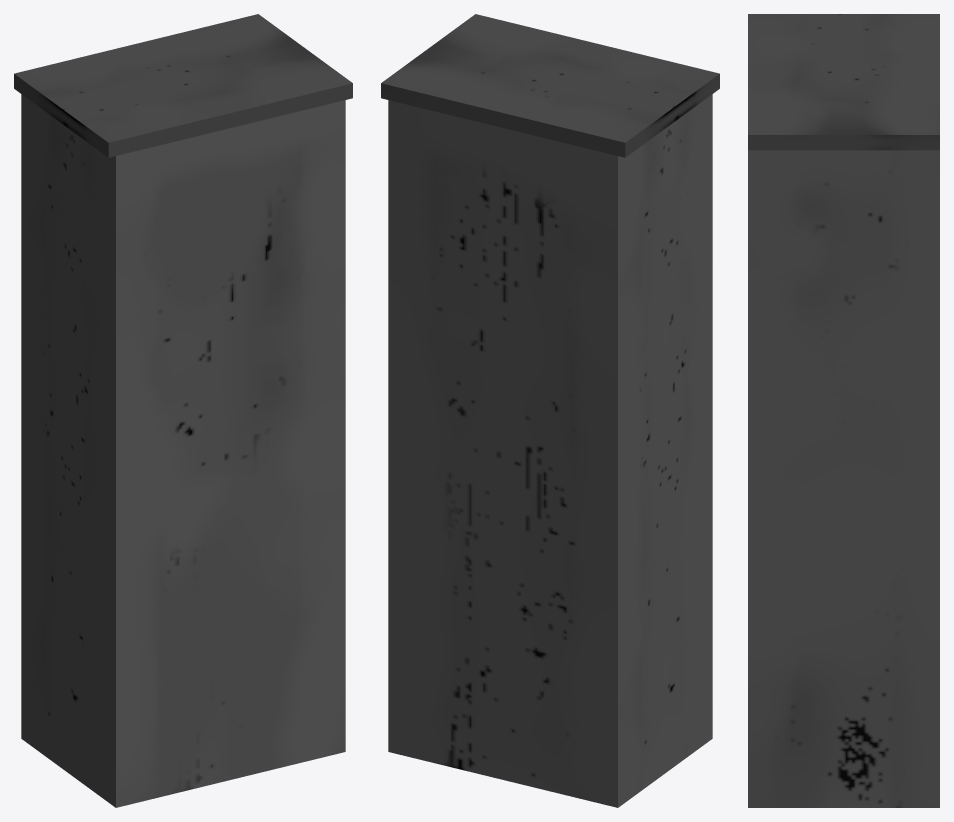
Rendered from Base_Ground_2x3_V1.fbx.
The picture shows the model from 3 angles, left to right: view 1: azimuth 30°, elevation 25°; view 2: azimuth 150°, elevation 25°; view 3: azimuth 270°, elevation 25°; orthographic projection.
Parts seen in each view (by area): view 1: Base Ground 2x3 V1; view 2: Base Ground 2x3 V1; view 3: Base Ground 2x3 V1.
Part boxes in pixels (x1,y1,x2,y2): Base Ground 2x3 V1: [14, 14, 352, 807]; Base Ground 2x3 V1: [381, 14, 719, 807]; Base Ground 2x3 V1: [748, 14, 939, 807].
Size of the model in its own units: 298 by 778 by 200.
